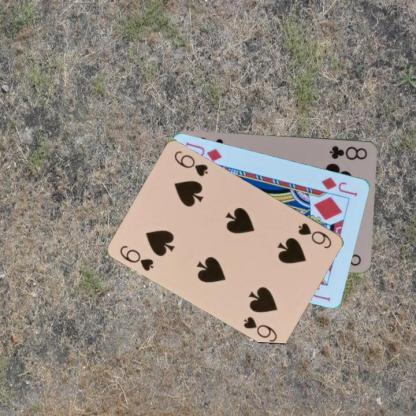6s: (296, 220, 334, 250), (118, 242, 156, 272)
8c: (327, 143, 369, 161)
Jd: (319, 174, 359, 198)
